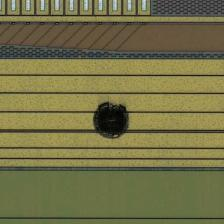PARTICLE: (89, 96, 137, 144)
